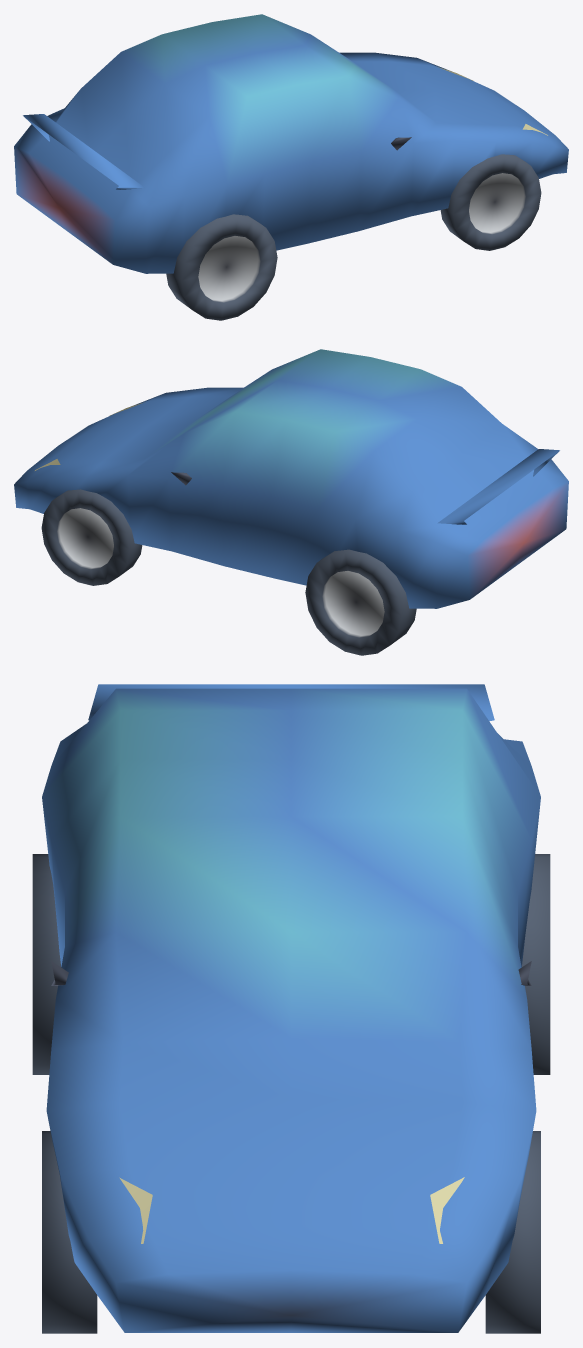
Rendered from reconstructed_mesh.glb.
3 renders of one model, top to bottom at view 1: azimuth 30°, elevation 25°; view 2: azimuth 150°, elevation 25°; view 3: azimuth 270°, elevation 25°, orthographic. The views are drawn at different scales.
Size of the model in its own units: 2 by 0.7902 by 0.9451.
